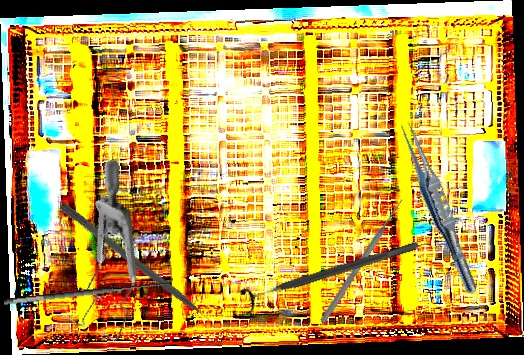Fixation Ring: (238, 231, 423, 316)
Hook Surgical: (2, 267, 174, 307)
Pusher: (57, 201, 224, 334), (318, 196, 407, 325)
Speculum: (14, 158, 189, 355)
Tissue Forceps: (390, 116, 487, 298)
